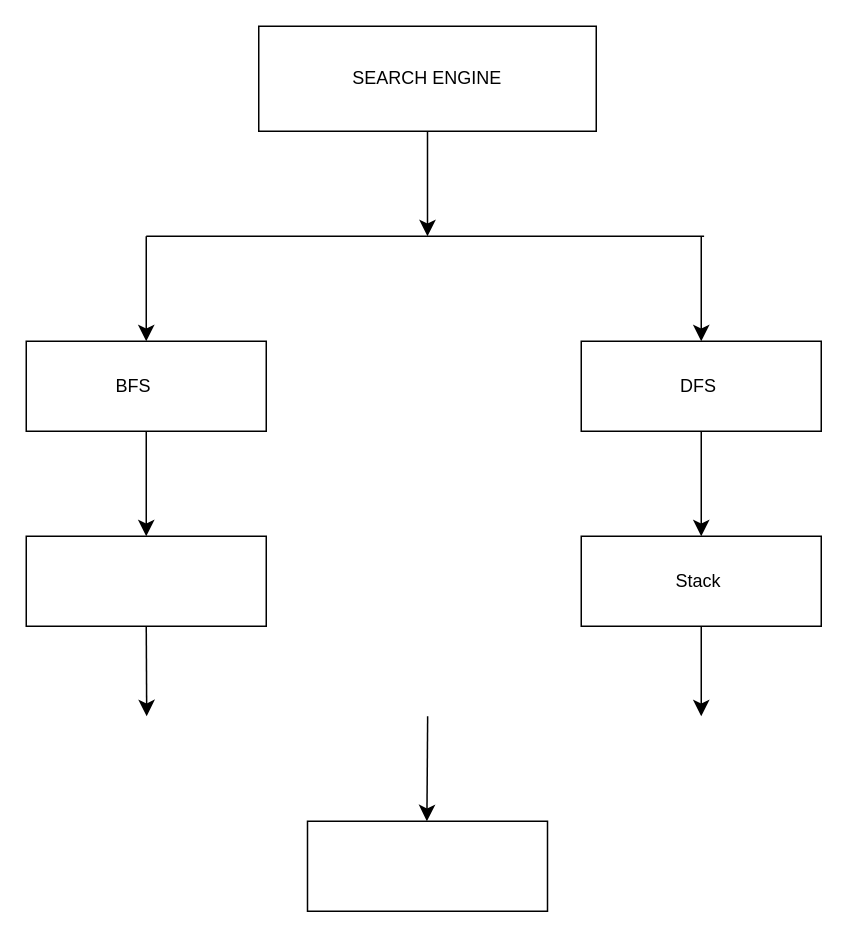
Some shapes in this 848 by 938 pixel diagram are drawn without their labels. The centre of each missing label's shape, as x and y in pixels:
"Goal Test" goes at (x=427, y=865).
"Queue" goes at (x=145, y=580).
